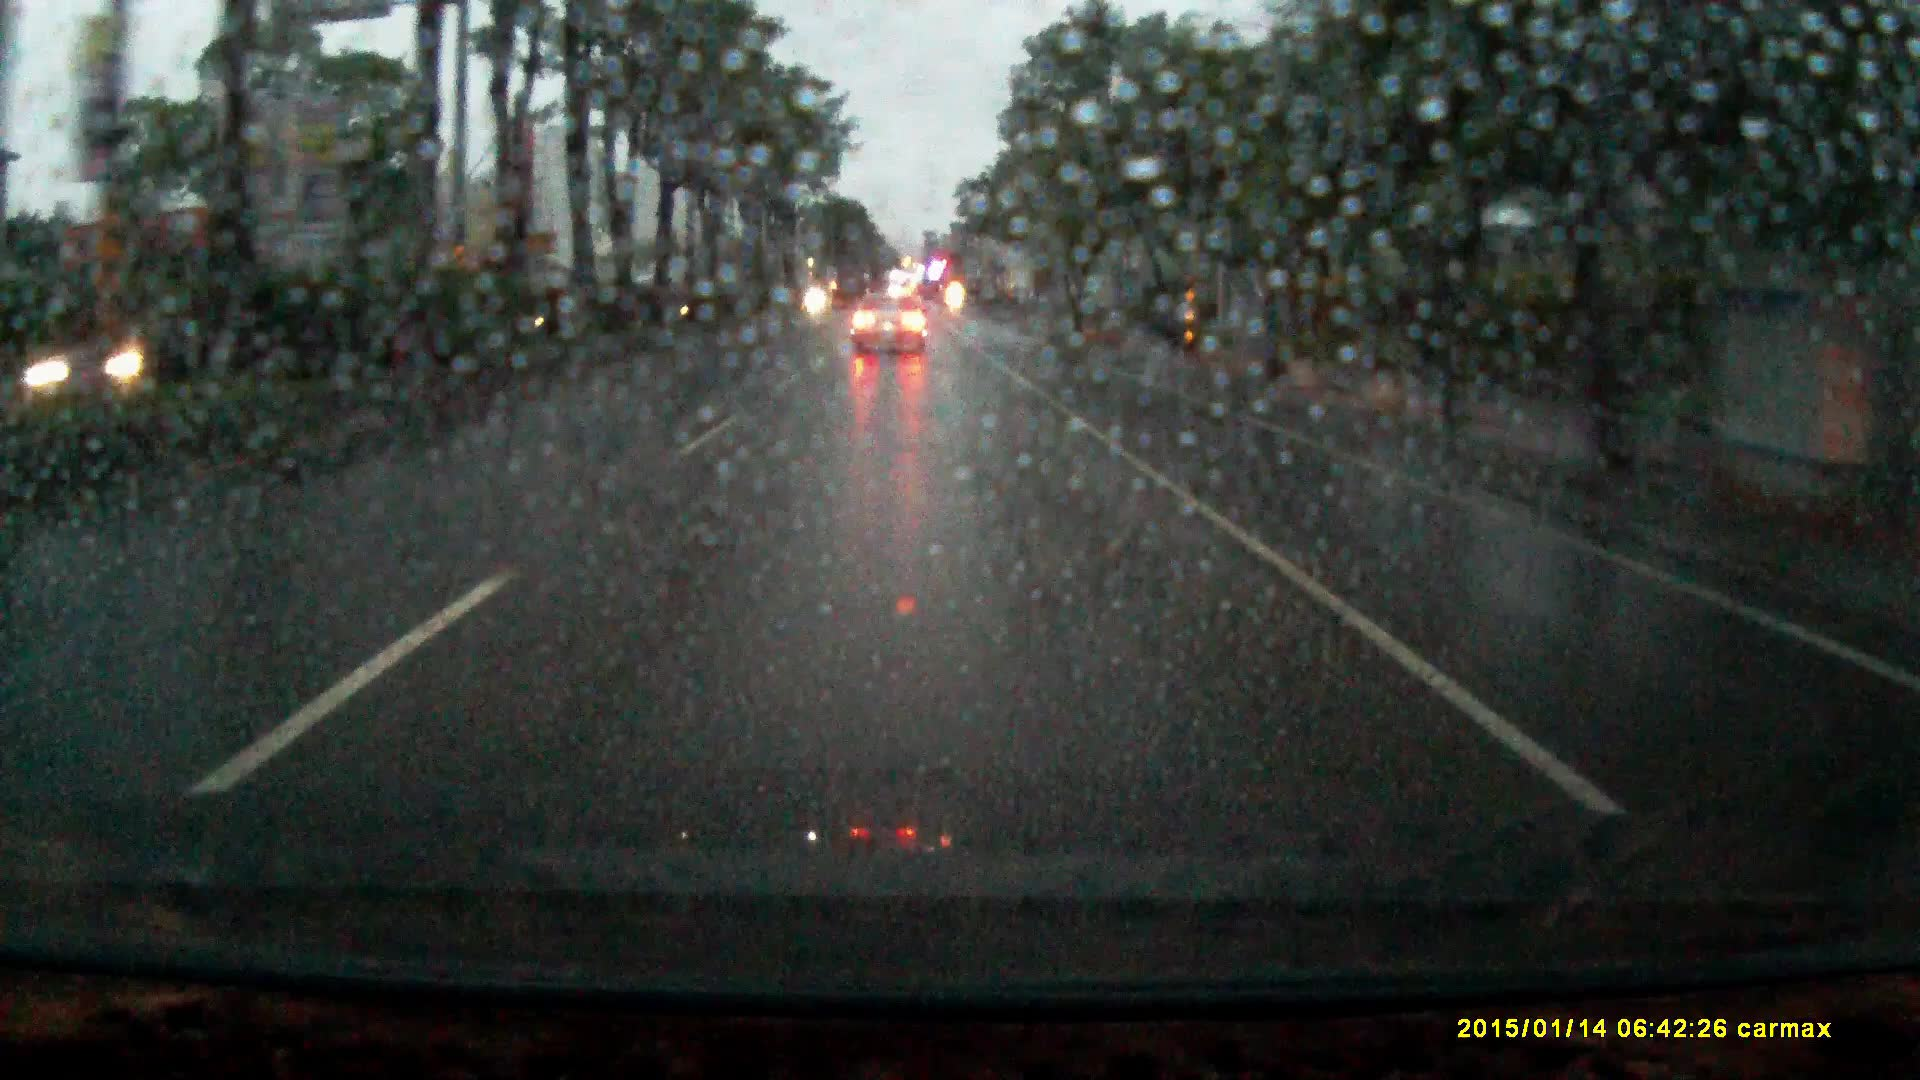vehicle: (849, 287, 931, 357)
